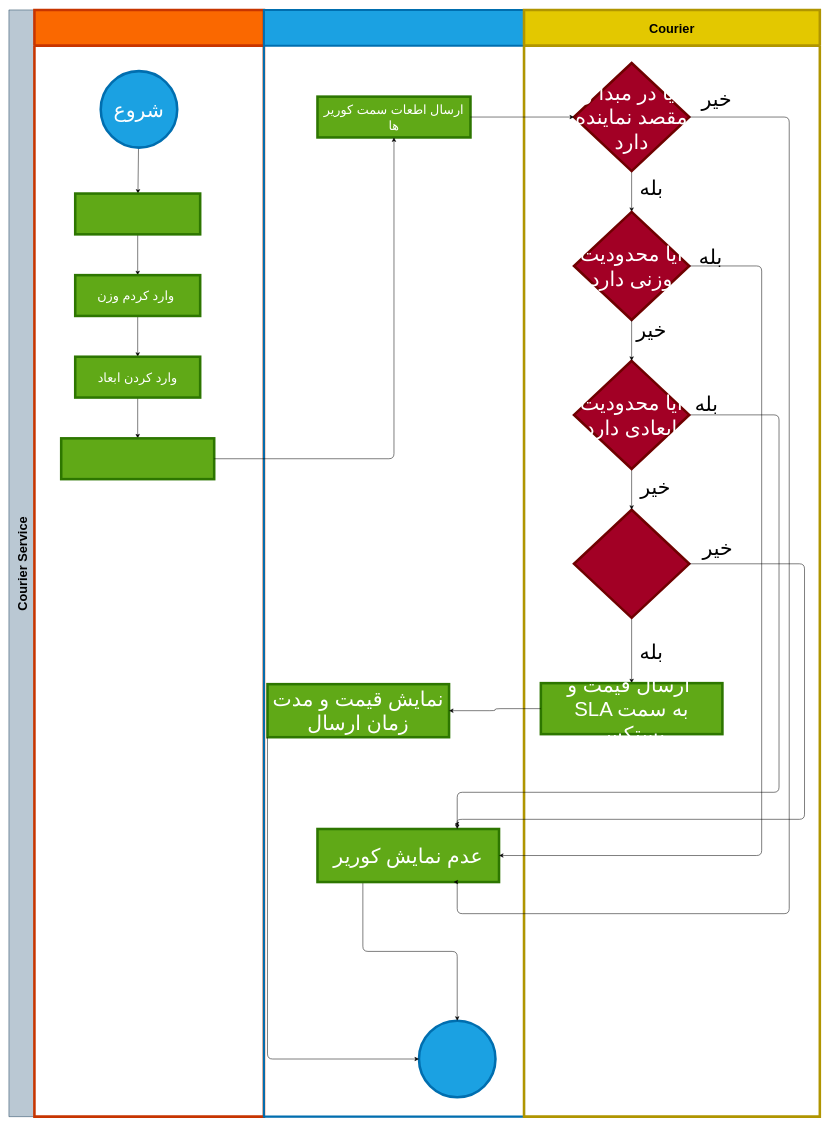
This 830x1127 diagram has some shape labels left out. The box of each missing label's shape, as (x1, y1, x2, y2) in pixels:
COD ارسال میکند؟: (572, 508, 690, 619)
Customer: (33, 8, 265, 1118)
Postex: (263, 9, 525, 1117)
سفارش پرداخت در محل می باشد: (60, 437, 215, 480)
وارد کرد مبدا و مقصد: (74, 192, 201, 235)
پایان: (417, 1019, 496, 1098)
